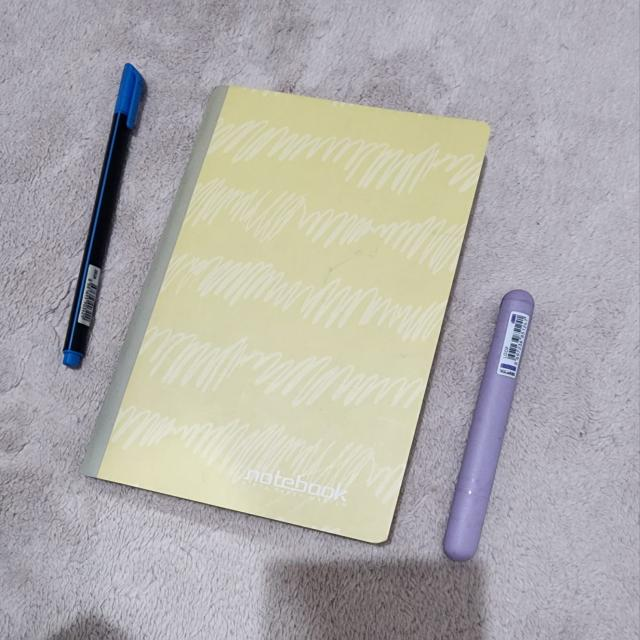defter: (80, 81, 496, 545)
kalem1: (62, 61, 145, 368)
kalem2: (443, 289, 536, 562)
